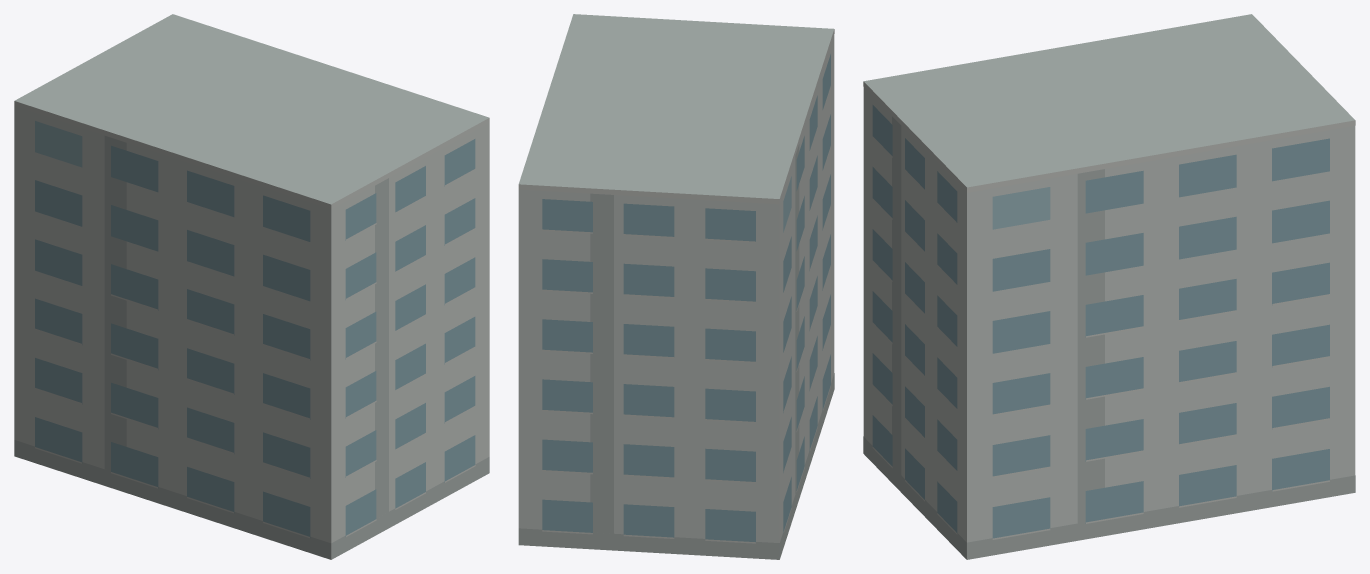
File: survey-upis-32938491.glb
3 renders of one model, left to right at view 1: azimuth 30°, elevation 25°; view 2: azimuth 150°, elevation 25°; view 3: azimuth 270°, elevation 25°, orthographic. The views are drawn at different scales.
Parts seen in each view (by area): view 1: survey-upis-32938491.tmp; view 2: survey-upis-32938491.tmp; view 3: survey-upis-32938491.tmp.
Part boxes in pixels (left/top/right/bottom): survey-upis-32938491.tmp: left=14, top=14, right=489, bottom=559; survey-upis-32938491.tmp: left=518, top=14, right=834, bottom=559; survey-upis-32938491.tmp: left=863, top=14, right=1355, bottom=559.
Bounding box in the file's own units: 16.74 × 16.75 × 20.06.
